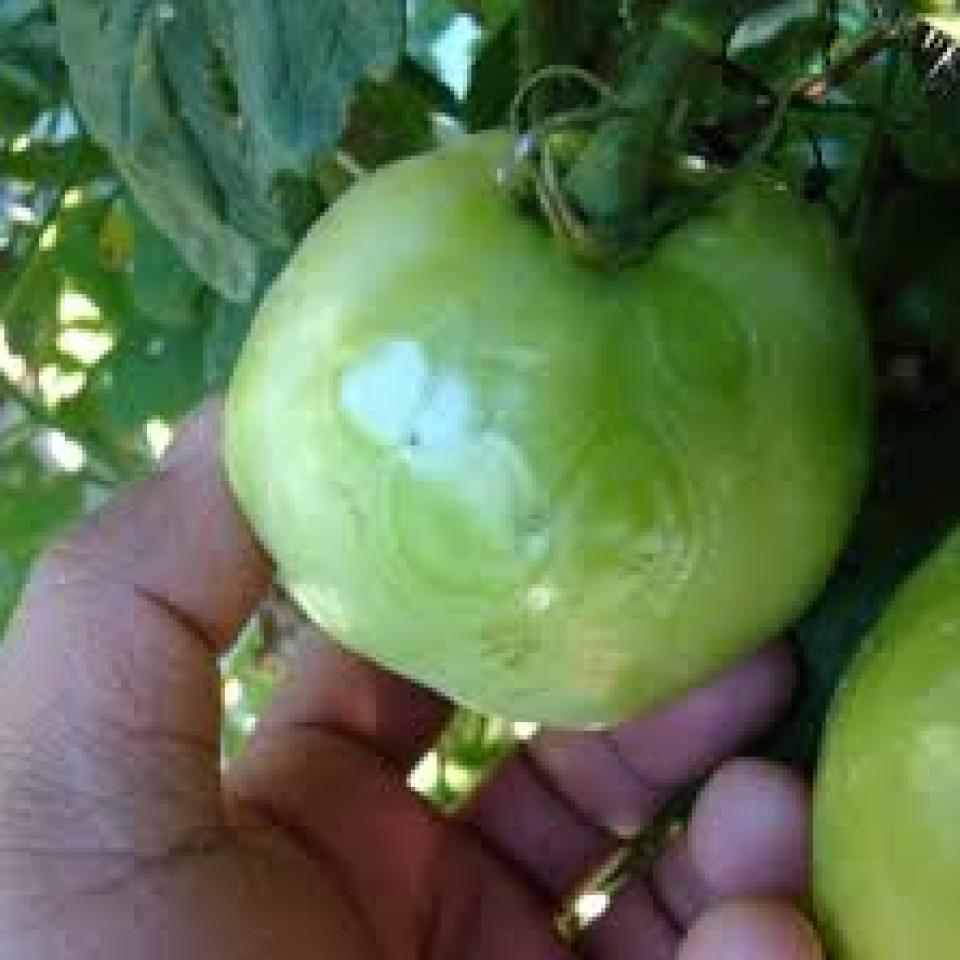Spotted wilt Virus: (225, 130, 865, 731), (809, 523, 960, 960)
